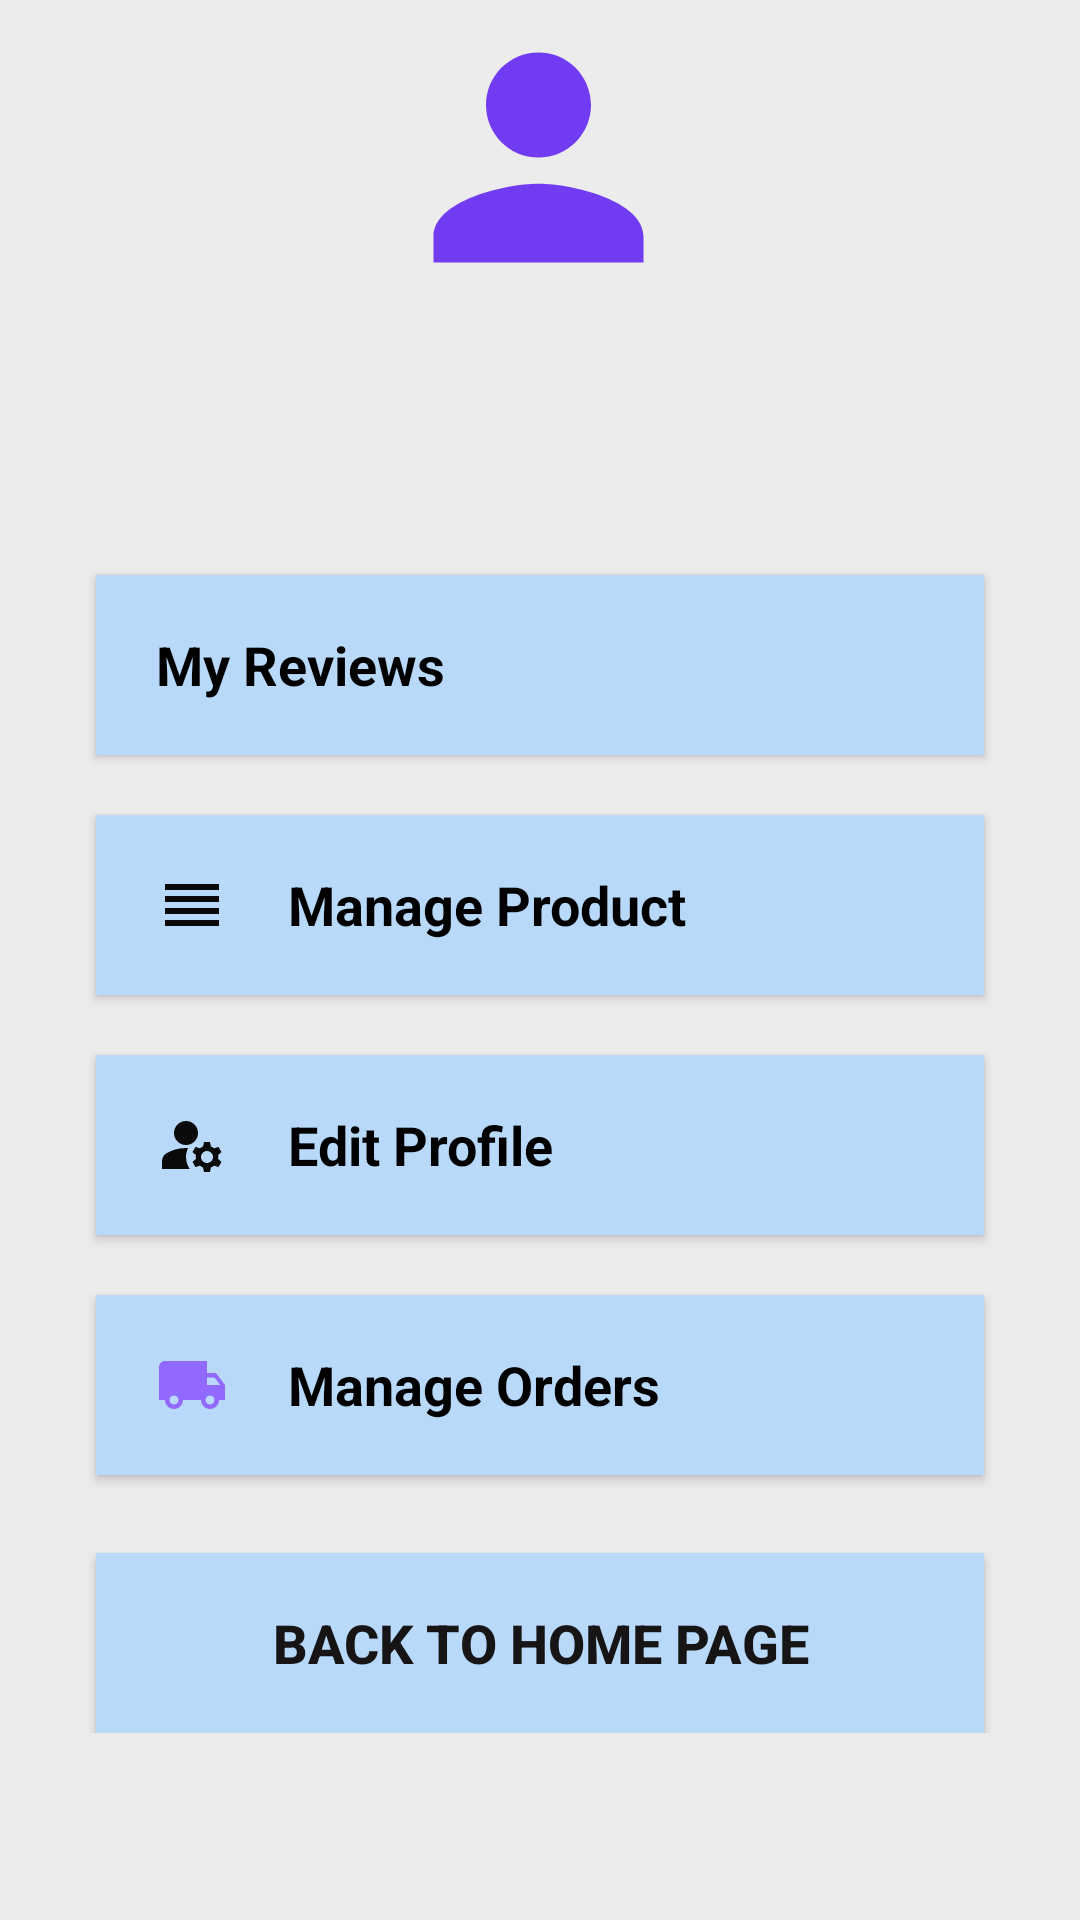

Icon bounding boxes for this 1080px×1920px phone screenshot, format {"x1": x1, "y1": y1, "x2": x2, "y2": y2}:
person: {"x1": 433, "y1": 52, "x2": 644, "y2": 263}
